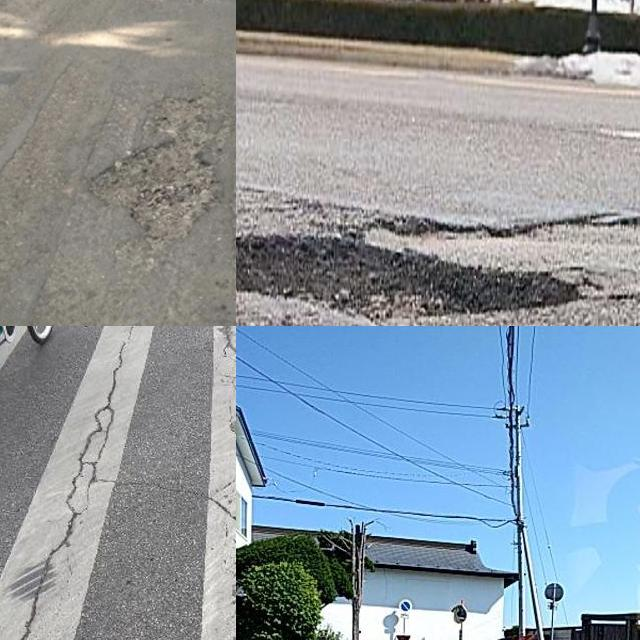Lubang: (236, 225, 581, 325), (88, 97, 225, 244)
